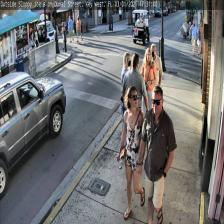person: (137, 86, 177, 224), (116, 86, 145, 219), (121, 53, 149, 165), (140, 47, 157, 134), (148, 43, 162, 126), (120, 51, 132, 140)
